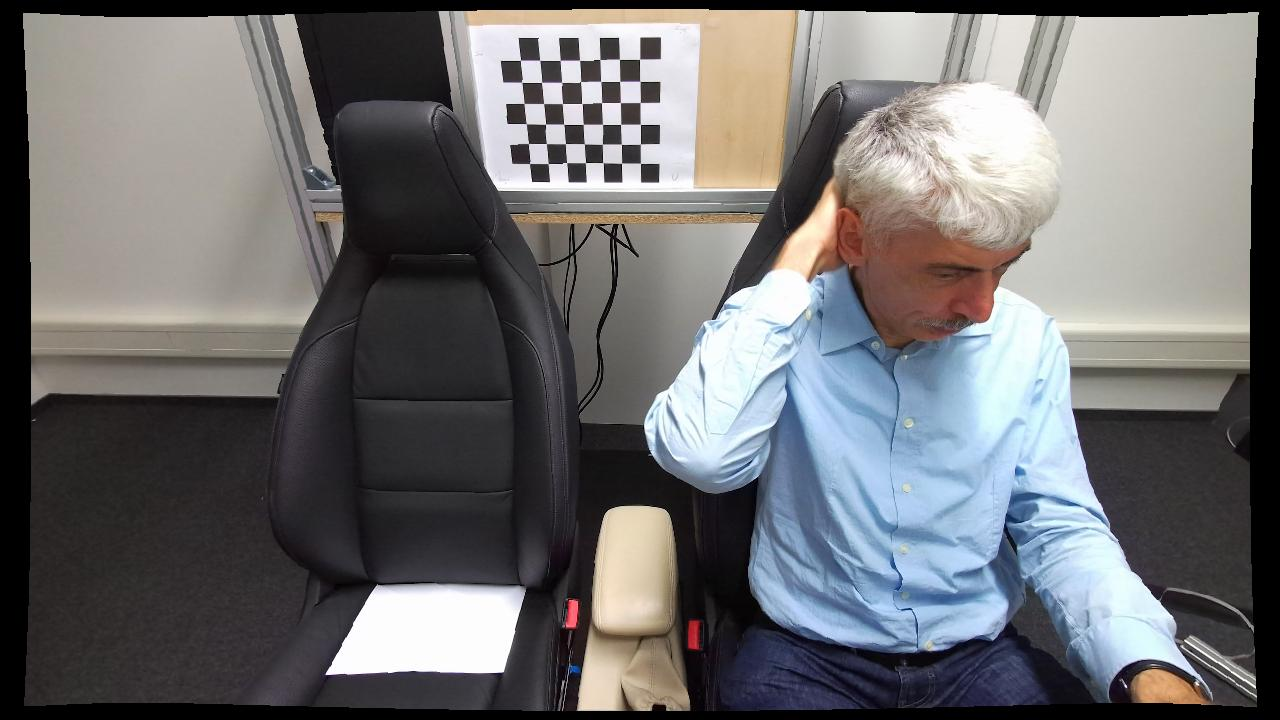Distracted: (644, 79, 1114, 711)
